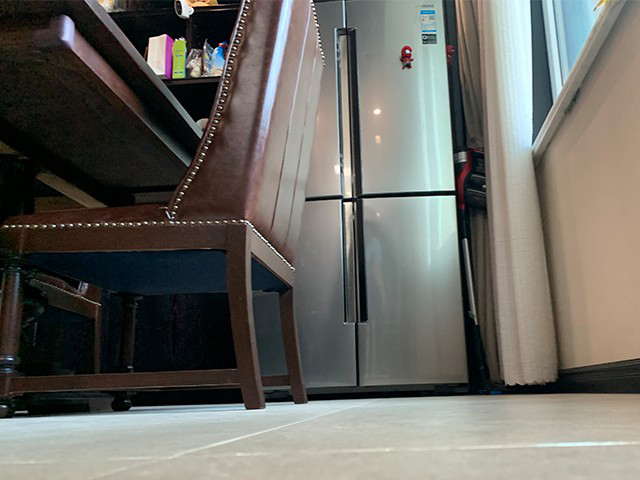curtain: (455, 1, 559, 384)
stool: (1, 1, 324, 419)
